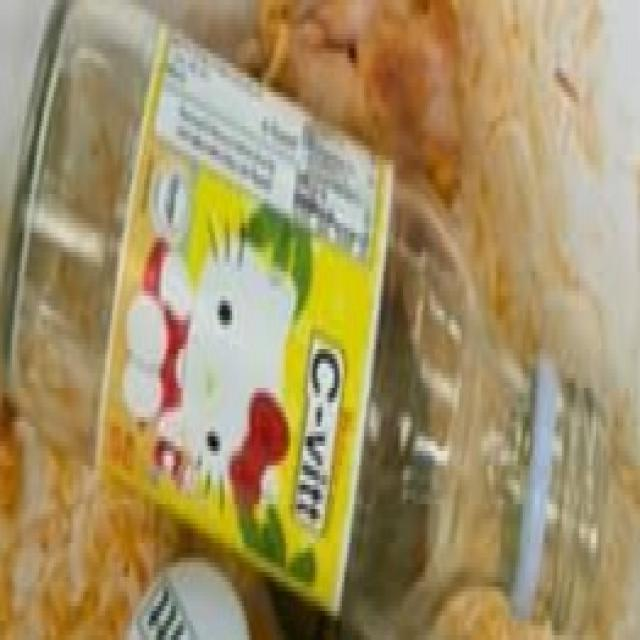glass bottle: (4, 0, 640, 621)
